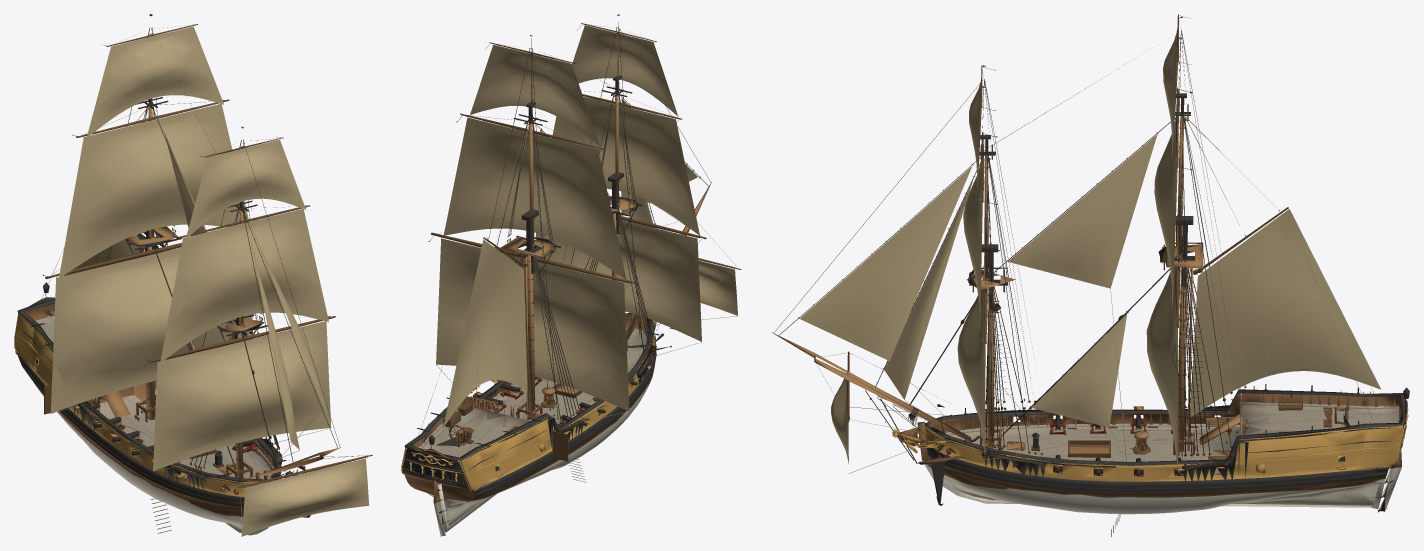
Rendered from ship_lod2.glb.
The picture shows the model from 3 angles, left to right: view 1: azimuth 30°, elevation 25°; view 2: azimuth 150°, elevation 25°; view 3: azimuth 270°, elevation 25°; orthographic projection. The views are drawn at different scales.
Visible parts, largest first — view 1: lod2_fore_course_set, lod2_main_topsail_set, lod2_main_course_set, lod2_fore_topsail_set, lod2_hull, lod2_main_topgallant_set, lod2_spritsail_set, lod2_fore_topgallant_set, lod2_fore_topmast_staysail_set, lod2_hull_rail, lod2_jib_set, lod2_gaff_sail_set (+5 smaller); view 2: lod2_main_topsail_set, lod2_main_course_set, lod2_hull, lod2_fore_topsail_set, lod2_fore_course_set, lod2_gaff_sail_set, lod2_main_topgallant_set, lod2_fore_topgallant_set, lod2_spritsail_set, lod2_hull_rail, lod2_spars_timber_001, lod2_main_yard (+9 smaller); view 3: lod2_hull, lod2_gaff_sail_set, lod2_jib_set, lod2_main_topmast_staysail_set, lod2_main_staysail_set, lod2_hull_rail, lod2_fore_topmast_staysail_set, lod2_main_course_set, lod2_fore_course_set, lod2_main_topsail_set, lod2_fore_topsail_set, lod2_bowsprit (+7 smaller).
Boxes of the visible parts, left/top/right/bottom form: lod2_fore_course_set: left=153, top=321, right=331, bottom=470; lod2_main_topsail_set: left=58, top=104, right=248, bottom=278; lod2_main_course_set: left=50, top=247, right=253, bottom=413; lod2_fore_topsail_set: left=160, top=209, right=328, bottom=362; lod2_hull: left=14, top=303, right=281, bottom=529; lod2_main_topgallant_set: left=86, top=26, right=223, bottom=137; lod2_spritsail_set: left=242, top=458, right=369, bottom=536; lod2_fore_topgallant_set: left=186, top=139, right=305, bottom=238; lod2_fore_topmast_staysail_set: left=249, top=234, right=299, bottom=449; lod2_hull_rail: left=17, top=301, right=280, bottom=481; lod2_jib_set: left=251, top=226, right=329, bottom=422; lod2_gaff_sail_set: left=64, top=239, right=140, bottom=275; lod2_main_topsail_set: left=444, top=117, right=626, bottom=279; lod2_main_course_set: left=436, top=238, right=629, bottom=411; lod2_hull: left=401, top=314, right=656, bottom=526; lod2_fore_topsail_set: left=552, top=96, right=699, bottom=235; lod2_fore_course_set: left=535, top=220, right=701, bottom=341; lod2_gaff_sail_set: left=443, top=239, right=527, bottom=428; lod2_main_topgallant_set: left=470, top=45, right=600, bottom=146; lod2_fore_topgallant_set: left=572, top=25, right=677, bottom=115; lod2_spritsail_set: left=698, top=260, right=737, bottom=315; lod2_hull_rail: left=404, top=313, right=654, bottom=460; lod2_spars_timber_001: left=527, top=255, right=535, bottom=418; lod2_main_yard: left=430, top=232, right=634, bottom=283; lod2_hull: left=925, top=393, right=1406, bottom=514; lod2_gaff_sail_set: left=1190, top=209, right=1380, bottom=417; lod2_jib_set: left=799, top=166, right=972, bottom=360; lod2_main_topmast_staysail_set: left=1008, top=134, right=1157, bottom=288; lod2_main_staysail_set: left=1032, top=313, right=1127, bottom=427; lod2_hull_rail: left=928, top=389, right=1408, bottom=465; lod2_fore_topmast_staysail_set: left=884, top=178, right=973, bottom=399; lod2_main_course_set: left=1146, top=267, right=1178, bottom=470; lod2_fore_course_set: left=957, top=279, right=985, bottom=457; lod2_main_topsail_set: left=1154, top=118, right=1177, bottom=319; lod2_fore_topsail_set: left=963, top=159, right=982, bottom=331; lod2_bowsprit: left=771, top=332, right=971, bottom=441.
Bounding box in the file's own units: 16.71 × 36.41 × 40.15.
31 materials, 31 textured.
